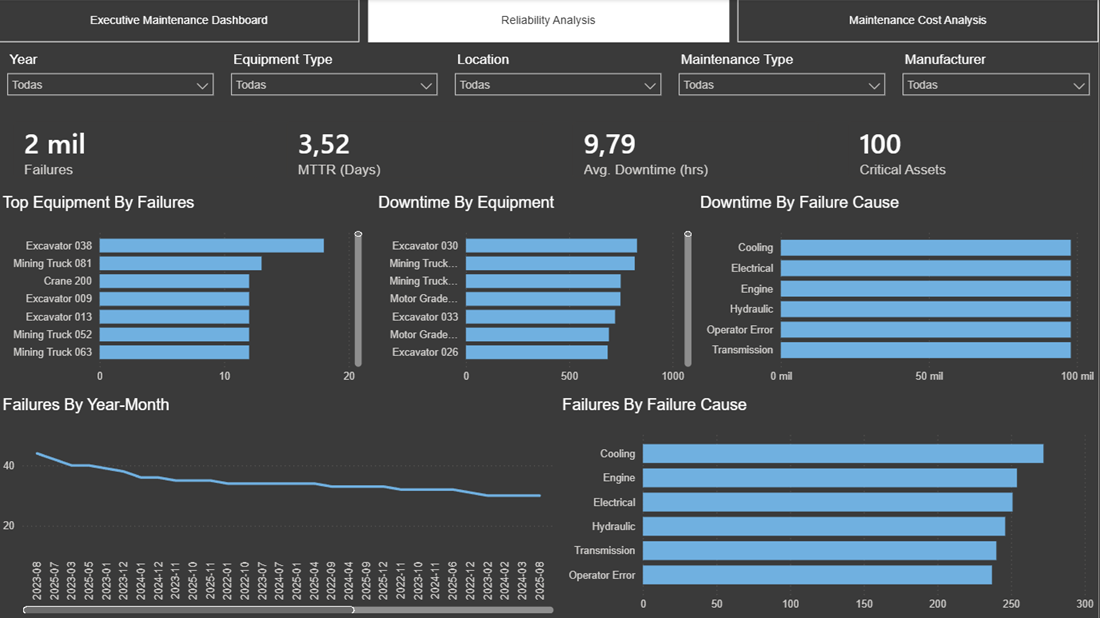

The dashboard page shown, as its layout file describes it:
{"tool":"powerbi","page":{"name":"Reliability Analysis","canvas":[1280,720],"ordinal":1},"visuals":[{"type":"slicer","fields":{"Values":["Calendar.Year"]},"box":[-0.2,55.8,260,70],"z":0},{"type":"slicer","fields":{"Values":["EQUIPMENT.Equipment Type"]},"box":[260.2,55.8,260,70],"z":1000},{"type":"slicer","fields":{"Values":["EQUIPMENT.Location"]},"box":[520.7,55.8,260,70],"z":2000},{"type":"slicer","fields":{"Values":["WORKORDERS.Maintenance Type"]},"box":[781.2,55.8,260.5,69.8],"z":3000},{"type":"slicer","fields":{"Values":["EQUIPMENT.Manufacturer"]},"box":[1041.4,55.8,238.4,69.8],"z":4000},{"type":"cardVisual","fields":{"Data":["MeasuresM.Total Failures"]},"box":[0,125.6,318.6,100],"z":5000},{"type":"cardVisual","fields":{"Data":["MeasuresM.Critical Equipment"]},"box":[972.1,125.6,308.1,100],"z":6000},{"type":"cardVisual","fields":{"Data":["MeasuresM.MTTR (Days)"]},"box":[318.6,125.6,332.6,100],"z":7000},{"type":"cardVisual","fields":{"Data":["MeasuresM.Average Downtime"]},"box":[651.2,125.6,320.9,100],"z":8000},{"type":"barChart","title":"Top Equipment By Failures","fields":{"Category":["EQUIPMENT.Equipment Name"],"Y":["MeasuresM.Total Failures"]},"box":[0,225.6,427.9,229.1],"z":9000},{"type":"barChart","title":"Downtime By Equipment","fields":{"Category":["EQUIPMENT.Equipment Name"],"Y":["MeasuresM.Total Downtime"]},"box":[437.2,225.6,374.4,229.1],"z":10000},{"type":"barChart","title":"Downtime By Failure Cause","fields":{"Category":["FAILURES.Failure Cause"],"Y":["MeasuresM.Total Downtime"]},"box":[811.6,225.6,468.6,229.1],"z":11000},{"type":"lineChart","title":"Failures By Year-Month","fields":{"Category":["Calendar.YearMonth"],"Y":["MeasuresM.Total Failures"]},"box":[0,461.6,651.2,258.1],"z":12000},{"type":"barChart","title":"Failures By Failure Cause","fields":{"Category":["FAILURES.Failure Cause"],"Y":["MeasuresM.Total Failures"]},"box":[651.2,461.6,629.1,258.1],"z":13000},{"type":"pageNavigator","box":[0,0,1280.2,50],"z":13001}]}

Visuals, with their boxes in screenshot pixels (x1, y1, x2, y2), scaled from the page's 1280x720 canvas onto the 1100x618 screenshot:
slicer - Calendar.Year: detection(0, 48, 223, 108)
slicer - EQUIPMENT.Equipment Type: detection(224, 48, 447, 108)
slicer - EQUIPMENT.Location: detection(447, 48, 671, 108)
slicer - WORKORDERS.Maintenance Type: detection(671, 48, 895, 108)
slicer - EQUIPMENT.Manufacturer: detection(895, 48, 1099, 108)
cardVisual - MeasuresM.Total Failures: detection(0, 108, 274, 194)
cardVisual - MeasuresM.Critical Equipment: detection(835, 108, 1099, 194)
cardVisual - MeasuresM.MTTR (Days): detection(274, 108, 560, 194)
cardVisual - MeasuresM.Average Downtime: detection(560, 108, 835, 194)
"Top Equipment By Failures" barChart: detection(0, 194, 368, 390)
"Downtime By Equipment" barChart: detection(376, 194, 697, 390)
"Downtime By Failure Cause" barChart: detection(697, 194, 1099, 390)
"Failures By Year-Month" lineChart: detection(0, 396, 560, 617)
"Failures By Failure Cause" barChart: detection(560, 396, 1099, 617)
pageNavigator: detection(0, 0, 1099, 43)
